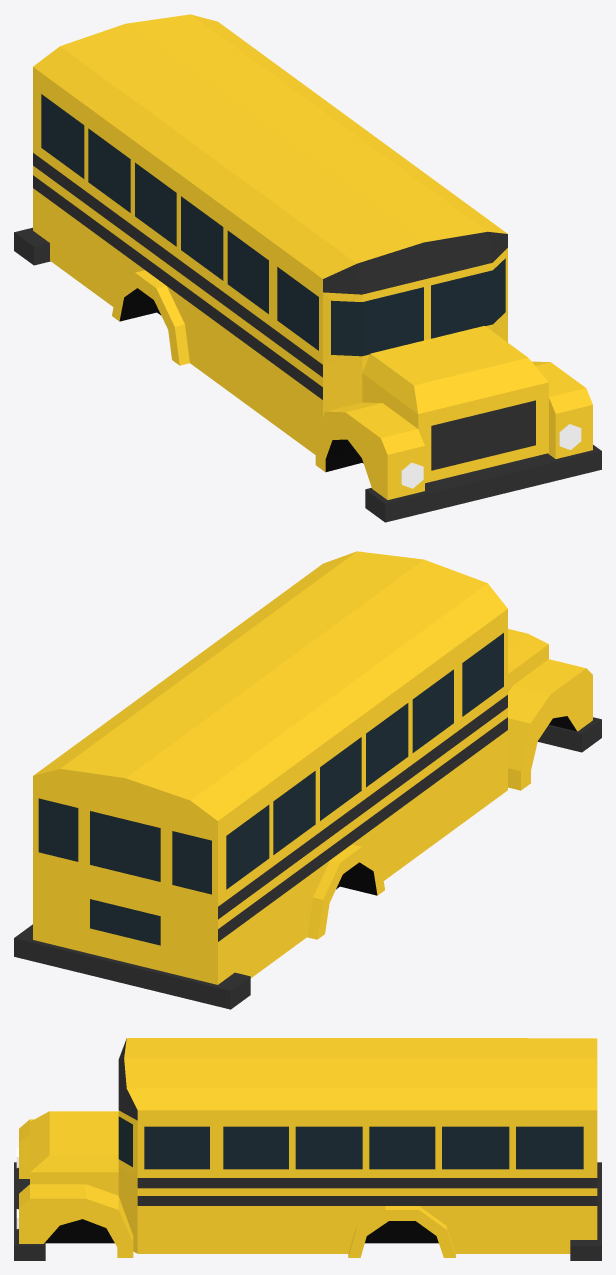
Rendered from bus-school-base.glb.
3 renders of one model, top to bottom at view 1: azimuth 30°, elevation 25°; view 2: azimuth 150°, elevation 25°; view 3: azimuth 270°, elevation 25°, orthographic. The views are drawn at different scales.
Visible parts, largest first — view 1: bus-school-base; view 2: bus-school-base; view 3: bus-school-base.
Boxes of the visible parts, <box> form: bus-school-base: <box>14,14,601,522</box>; bus-school-base: <box>14,551,601,1009</box>; bus-school-base: <box>14,1038,601,1260</box>.
Bounding box in the file's own units: 2.98 × 2.67 × 8.85.
Materials: 1 (1 with a texture image).
